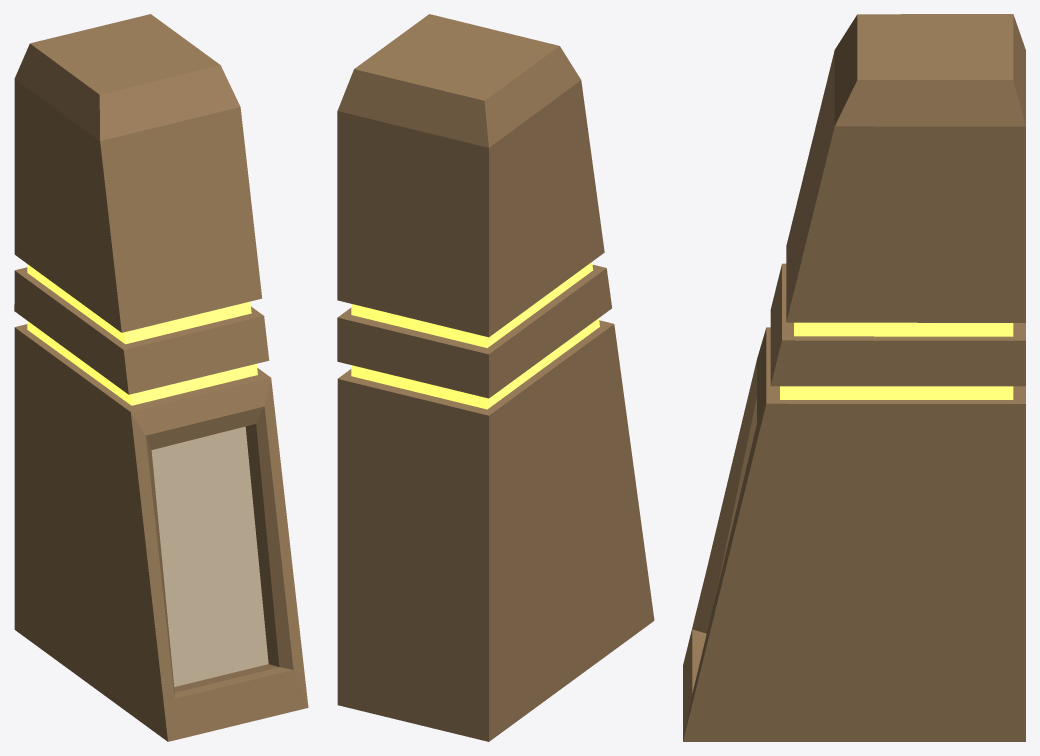
The model's file is GlyphRaider_Wall_Pillar.glb.
3 views of the same model, side by side, from view 1: azimuth 30°, elevation 25°; view 2: azimuth 150°, elevation 25°; view 3: azimuth 270°, elevation 25° (orthographic). The views are drawn at different scales.
Parts seen in each view (by area): view 1: WallPillar-col; view 2: WallPillar-col; view 3: WallPillar-col.
Part boxes in pixels (<box>): WallPillar-col: <box>14,14,308,741</box>; WallPillar-col: <box>337,14,654,741</box>; WallPillar-col: <box>683,14,1025,741</box>.
Bounding box in the file's own units: 3 × 12 × 5.68.
